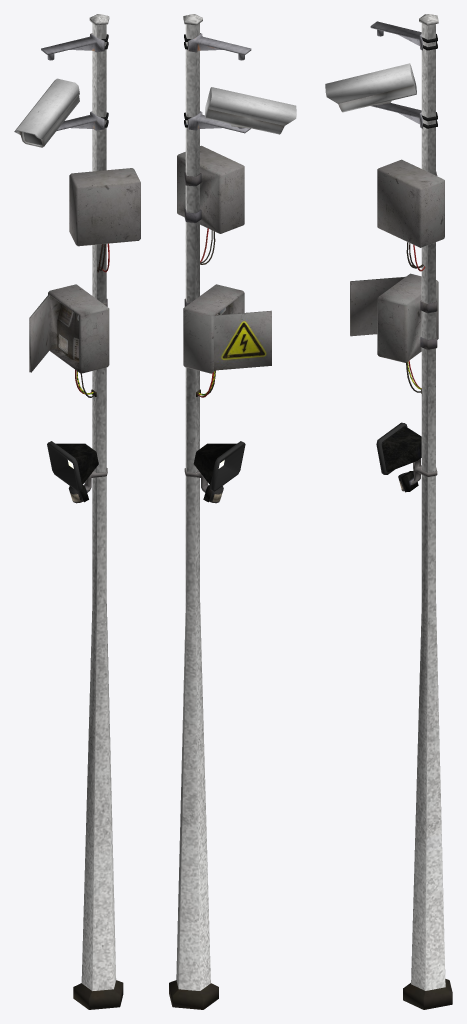
Rendered from post_high.glb.
3 renders of one model, left to right at view 1: azimuth 30°, elevation 25°; view 2: azimuth 150°, elevation 25°; view 3: azimuth 330°, elevation 25°, orthographic.
Visible parts, largest first — view 1: post_high; view 2: post_high; view 3: post_high.
Part boxes in pixels (left/top/right/bottom): post_high: left=14, top=14, right=140, bottom=1009; post_high: left=169, top=14, right=296, bottom=1009; post_high: left=325, top=14, right=452, bottom=1009.
Bounding box in the file's own units: 0.505 × 3.98 × 0.3032.
7 materials, 7 textured.
